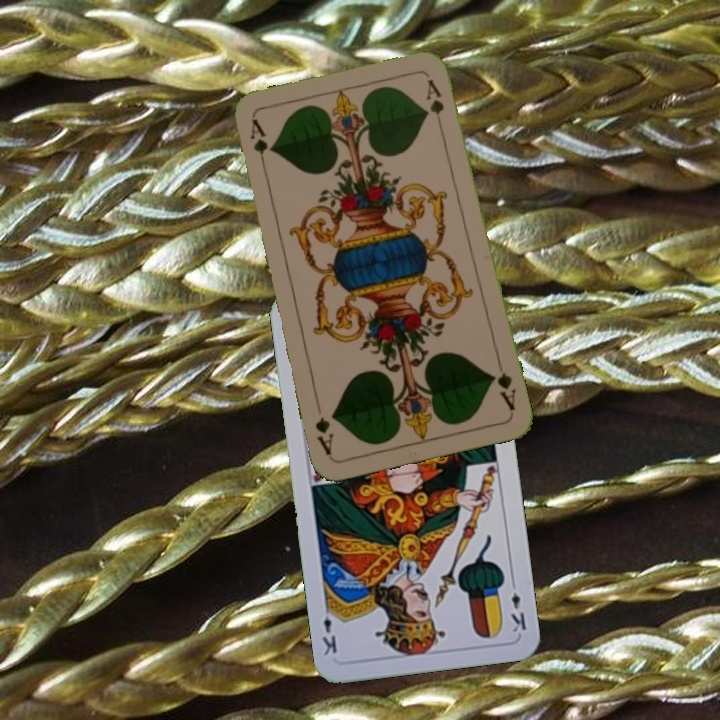EK: (506, 575, 529, 635)
GA: (488, 355, 518, 414), (245, 115, 270, 174)
